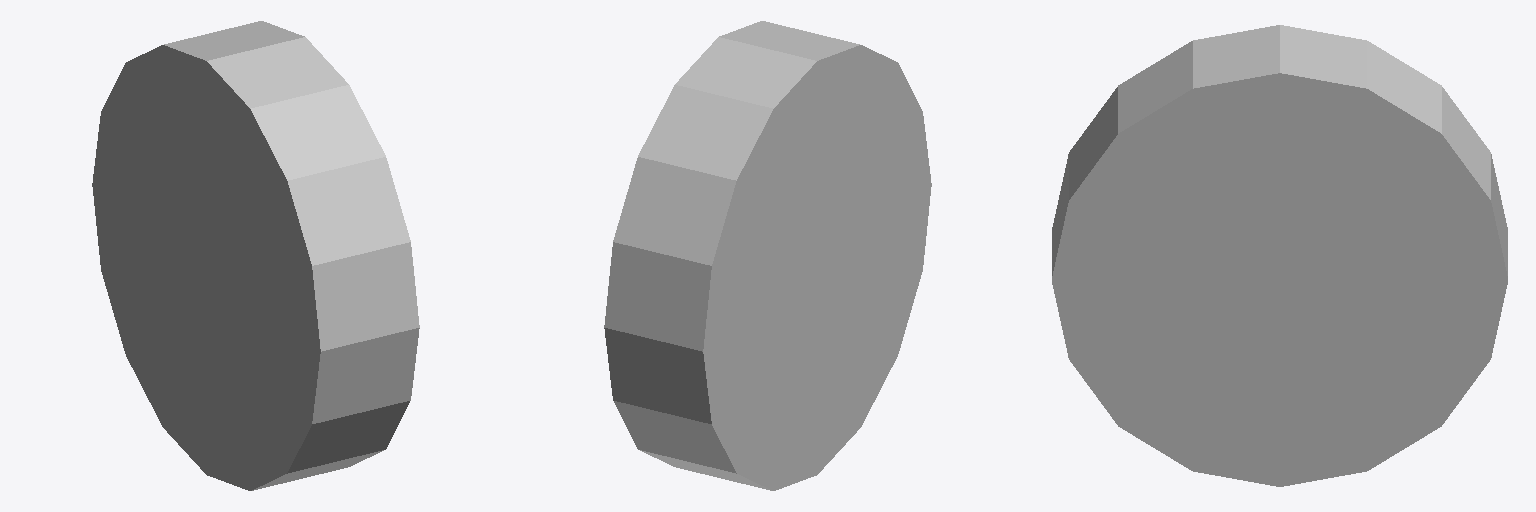
The model's file is wheel.obj.
3 renders of one model, left to right at view 1: azimuth 30°, elevation 25°; view 2: azimuth 150°, elevation 25°; view 3: azimuth 270°, elevation 25°, orthographic.
Size of the model in its own units: 0.5 by 2 by 2.